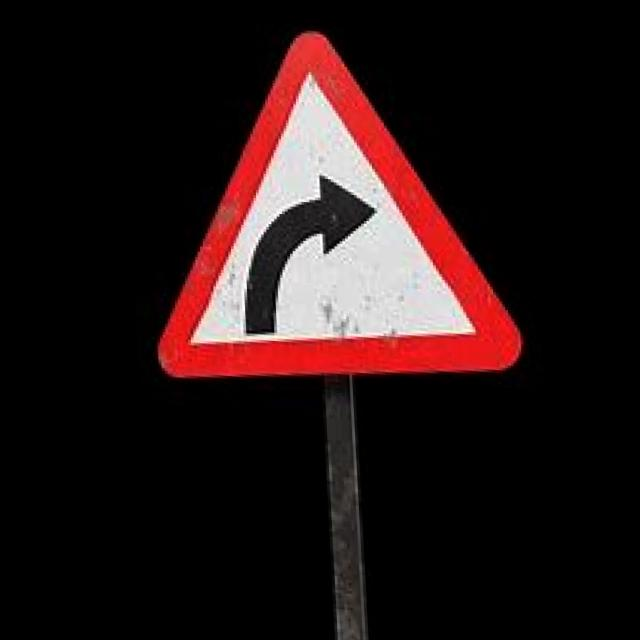RIGHT_HAND_CURVE: (138, 11, 526, 408)
